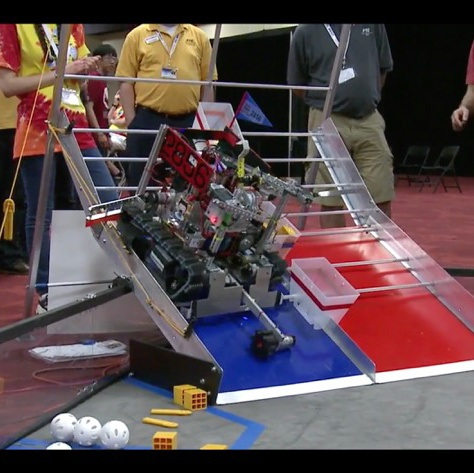robot: (114, 120, 310, 362)
